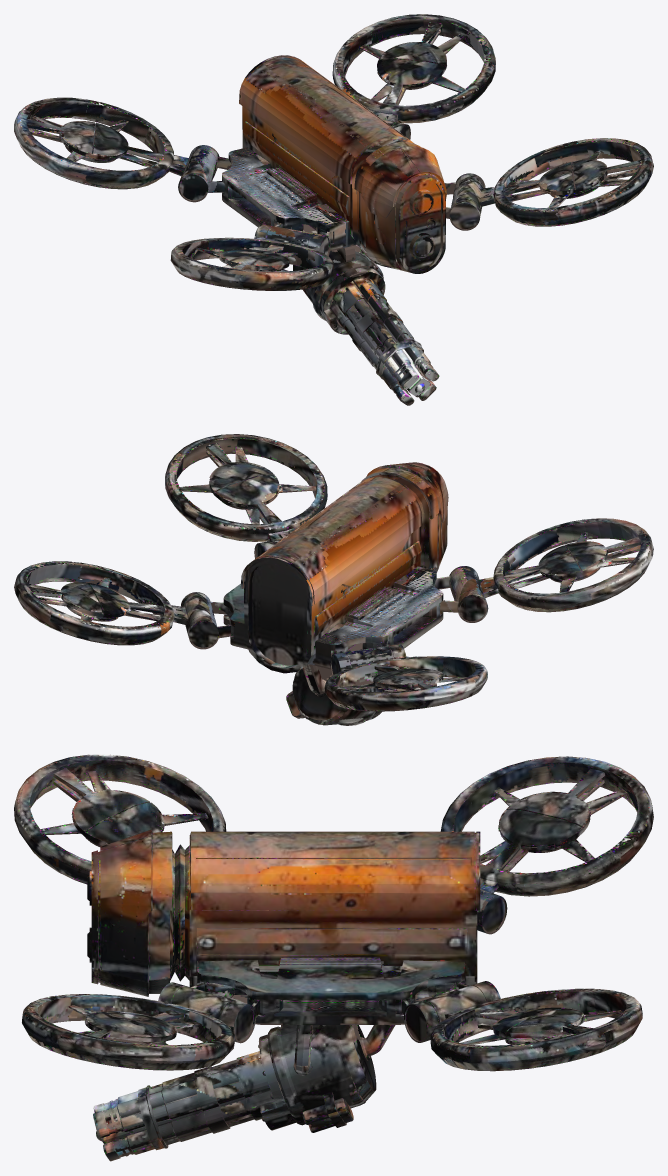
The picture shows the model from 3 angles, top to bottom: view 1: azimuth 30°, elevation 25°; view 2: azimuth 150°, elevation 25°; view 3: azimuth 270°, elevation 25°; orthographic projection. The views are drawn at different scales.
Parts seen in each view (by area): view 1: mesh; view 2: mesh; view 3: mesh.
Part boxes in pixels (x1,y1,x2,y2): mesh: (14, 14, 653, 405); mesh: (14, 434, 653, 725); mesh: (14, 754, 653, 1161).
Bounding box in the file's own units: 87.29 × 44.05 × 79.47.
1 material, 1 textured.
